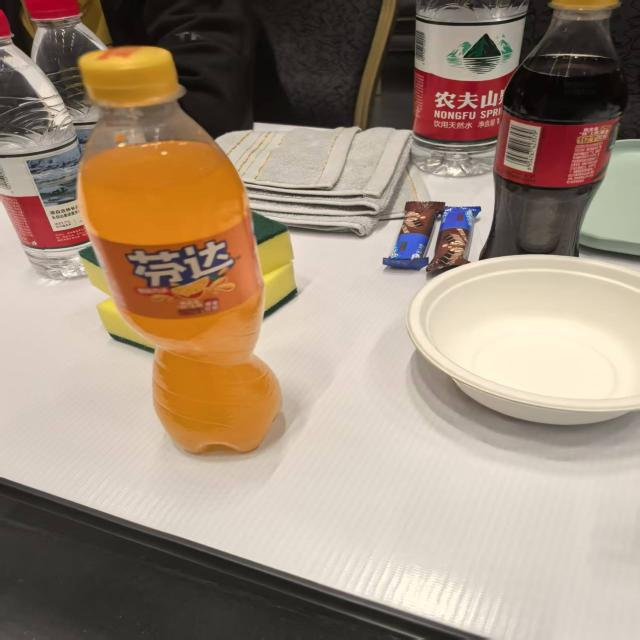orange: (120, 235, 235, 312)
